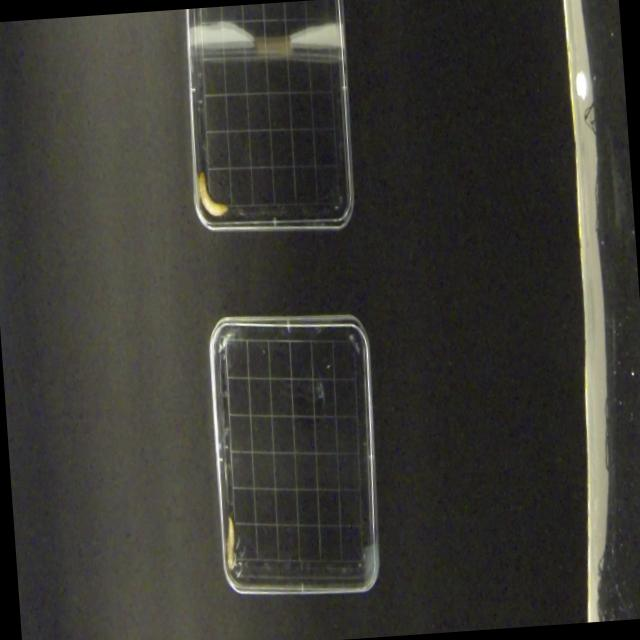larva: (198, 170, 226, 220), (225, 512, 237, 568)
